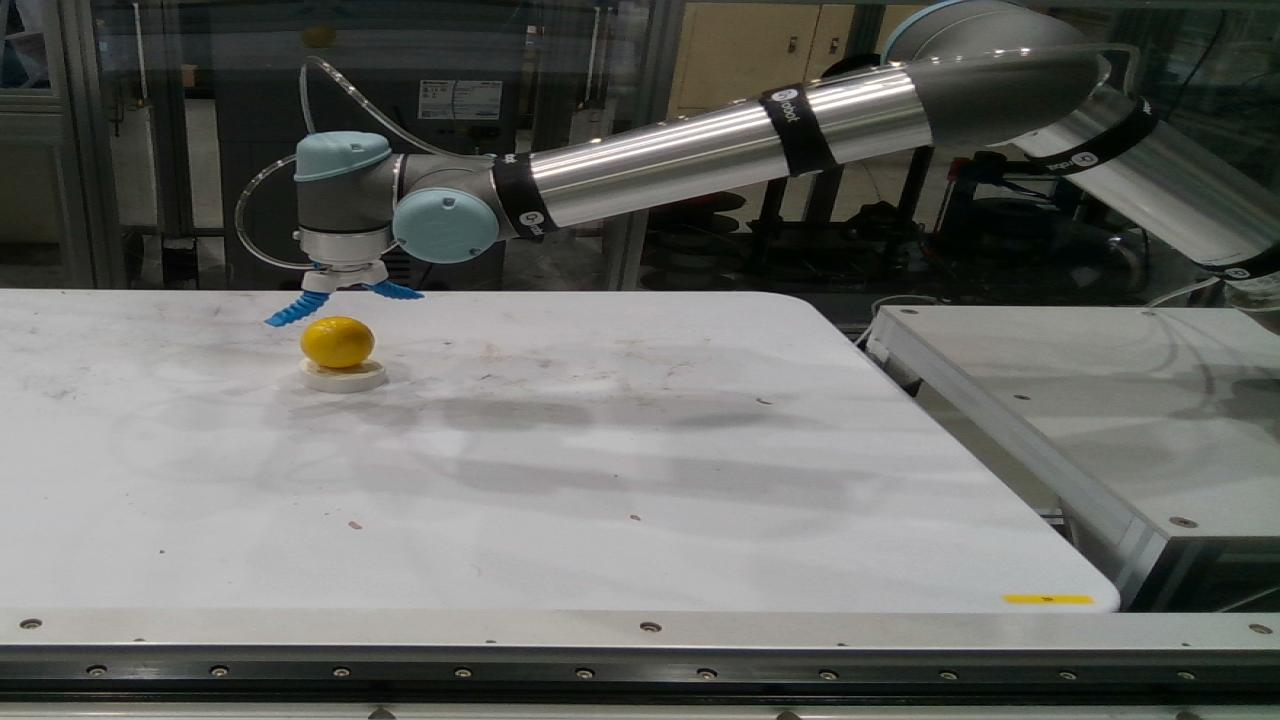UR5: (297, 0, 1279, 332)
gripper_left: (362, 279, 426, 300)
gripper_right: (265, 289, 333, 327)
target: (299, 350, 387, 393), (301, 316, 375, 367)
